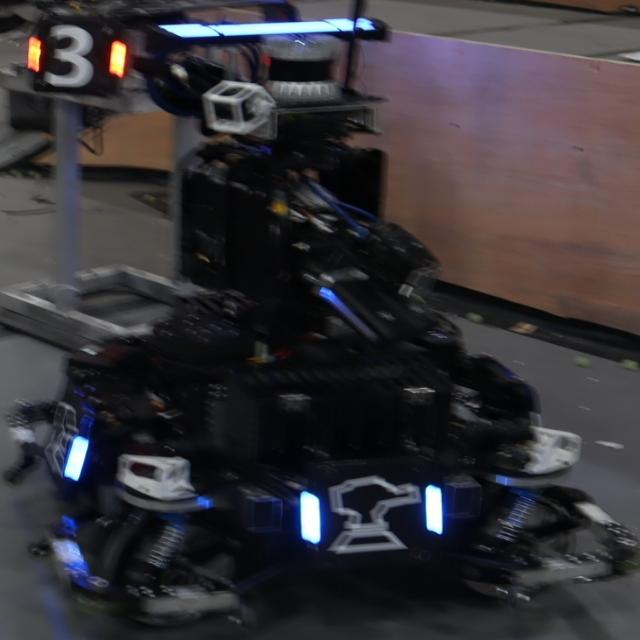Bs: (296, 470, 448, 556), (43, 392, 91, 483)
R3: (25, 24, 122, 84)
